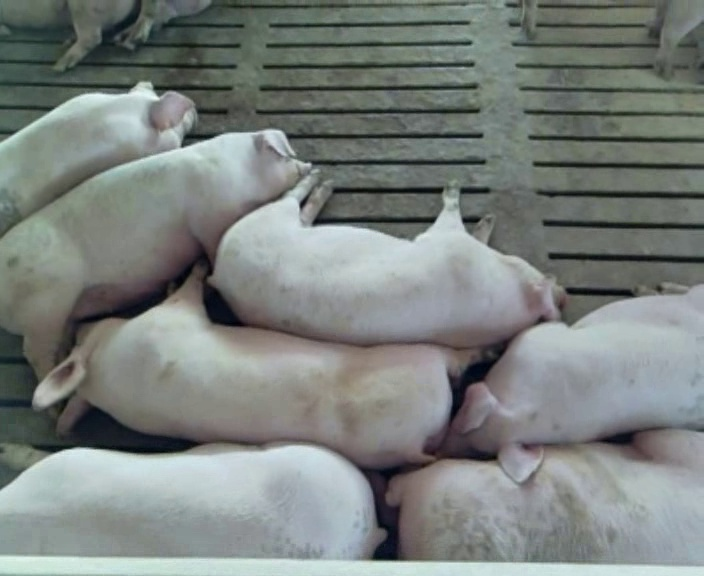pig: (32, 265, 491, 467), (0, 131, 309, 379), (210, 171, 562, 344), (442, 284, 703, 481), (386, 431, 703, 562), (0, 82, 196, 235), (0, 1, 135, 71)
